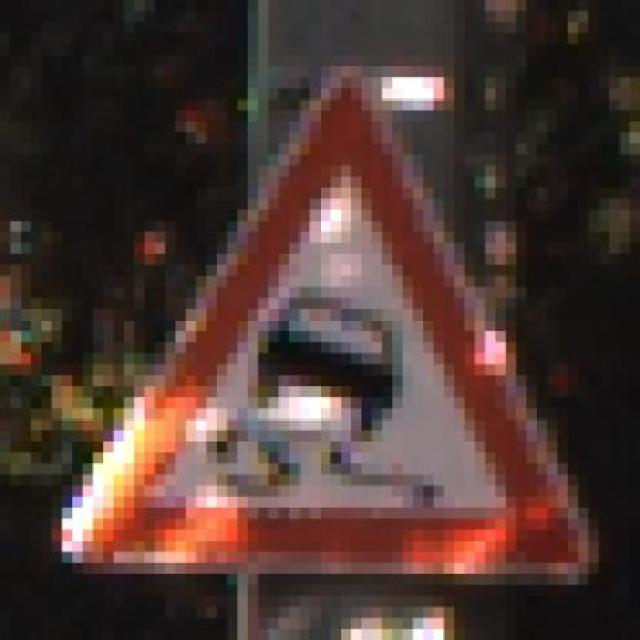Slippery Road Ahead: (62, 55, 609, 574)
